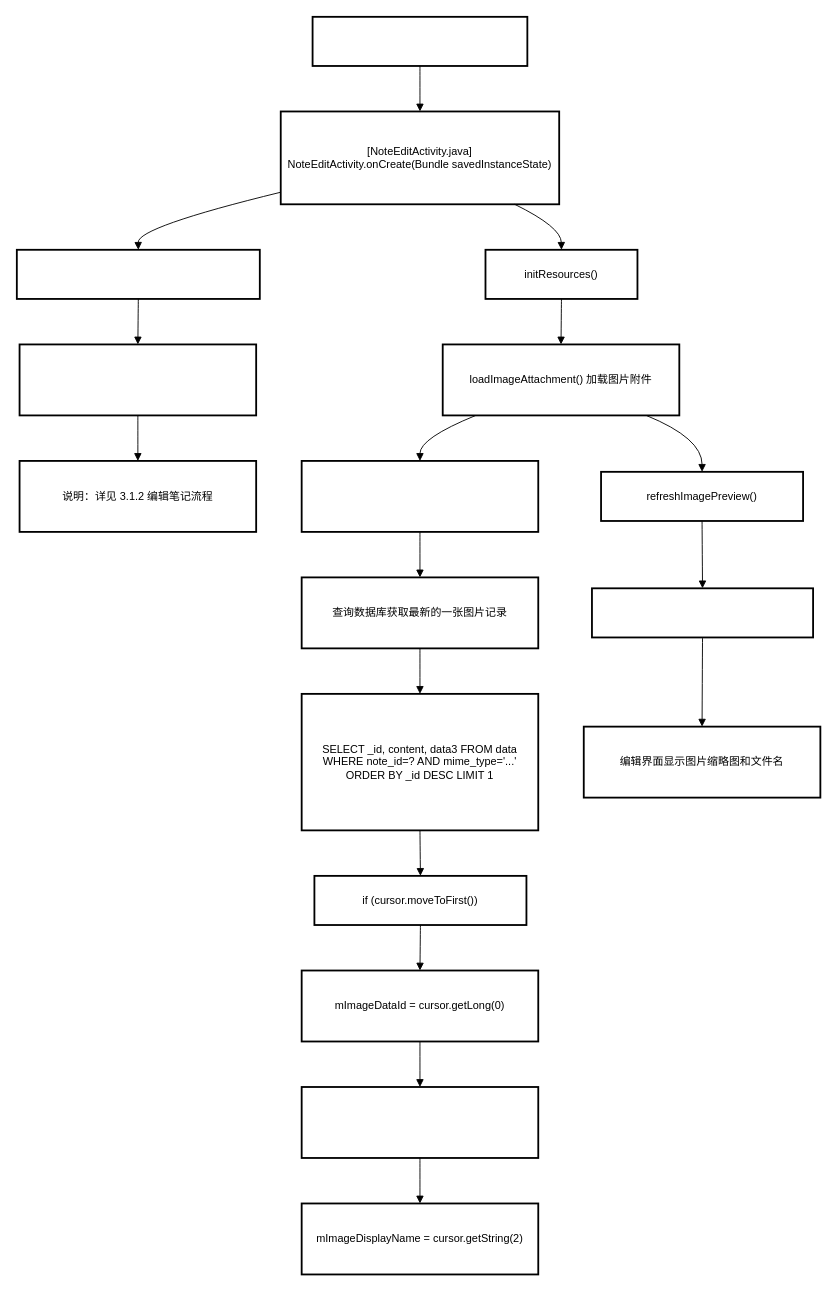
Some shapes in this 836 by 1290 pixel diagram are drawn without their labels. The box of each missing label's shape, as (x1, y1, x2, y2) in pixels:
initActivityState(getIntent()): (15, 248, 260, 299)
mImageUri = cursor.getString(1): (300, 1086, 539, 1158)
WorkingNote.load(context, noteId) 加载笔记数据: (18, 343, 257, 416)
根据 mImageUri 显示预览: (591, 587, 814, 638)
用户打开已有图片的笔记: (311, 15, 528, 66)
说明：初始化图片相关成员变量: (300, 460, 539, 532)
